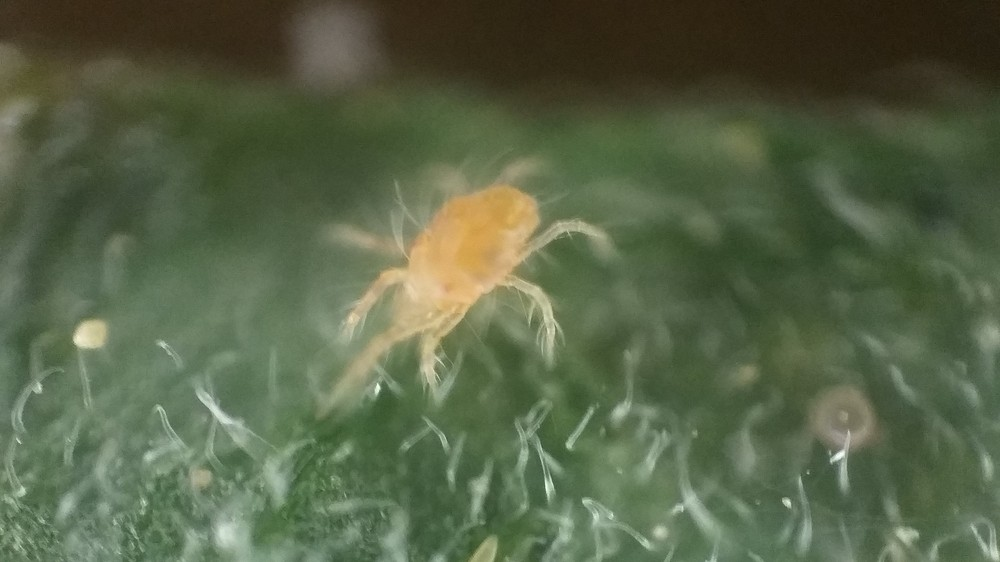Aracnido Rojo: (300, 152, 626, 404)
